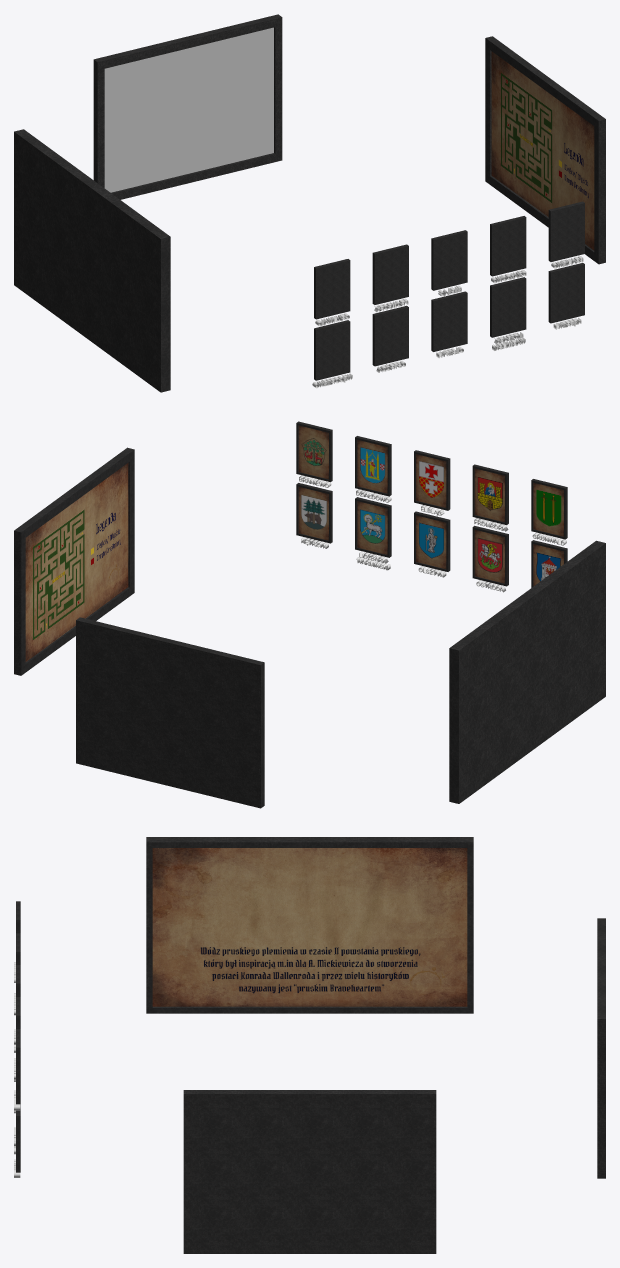
File: MuseumAdditions.fbx
The picture shows the model from 3 angles, top to bottom: view 1: azimuth 30°, elevation 25°; view 2: azimuth 150°, elevation 25°; view 3: azimuth 270°, elevation 25°; orthographic projection. The views are drawn at different scales.
Visible parts, largest first — view 1: MapWarmiaIMazury, Password, Legend, ElblagImage, KetrzynImage, BraniewoImage, GrundwaldImage, OstrodaImage, DzialdowoImage, FromborkImage, Olsztyn, LidzbarkWImage (+1 smaller); view 2: MapWarmiaIMazury, Password, Legend, FromborkImage, Olsztyn, LidzbarkWImage, DzialdowoImage, BraniewoImage, GrundwaldImage, KetrzynImage, OstrodaImage, ElblagImage (+1 smaller); view 3: Password, Legend, MapWarmiaIMazury.
Part boxes in pixels (x1,y1,x2,y2): MapWarmiaIMazury: (93, 14, 282, 199); Password: (14, 129, 170, 392); Legend: (485, 36, 605, 264); ElblagImage: (431, 230, 467, 290); KetrzynImage: (548, 263, 584, 323); BraniewoImage: (548, 201, 584, 261); GrundwaldImage: (314, 259, 350, 319); OstrodaImage: (372, 305, 408, 366); DzialdowoImage: (490, 216, 526, 276); FromborkImage: (372, 244, 408, 304); Olsztyn: (431, 291, 467, 351); LidzbarkWImage: (490, 277, 526, 337); MapWarmiaIMazury: (76, 617, 264, 808); Password: (449, 540, 605, 803); Legend: (14, 447, 134, 675); FromborkImage: (472, 464, 508, 525); Olsztyn: (414, 511, 450, 571); LidzbarkWImage: (355, 497, 391, 557); DzialdowoImage: (355, 436, 391, 496); BraniewoImage: (296, 421, 332, 482); GrundwaldImage: (531, 479, 567, 539); KetrzynImage: (296, 483, 332, 543); OstrodaImage: (472, 525, 508, 586); ElblagImage: (414, 450, 450, 510); Password: (146, 837, 473, 1013); Legend: (183, 1090, 436, 1253); MapWarmiaIMazury: (597, 918, 605, 1178).
Size of the model in its own units: 9.44 by 3 by 9.4.
